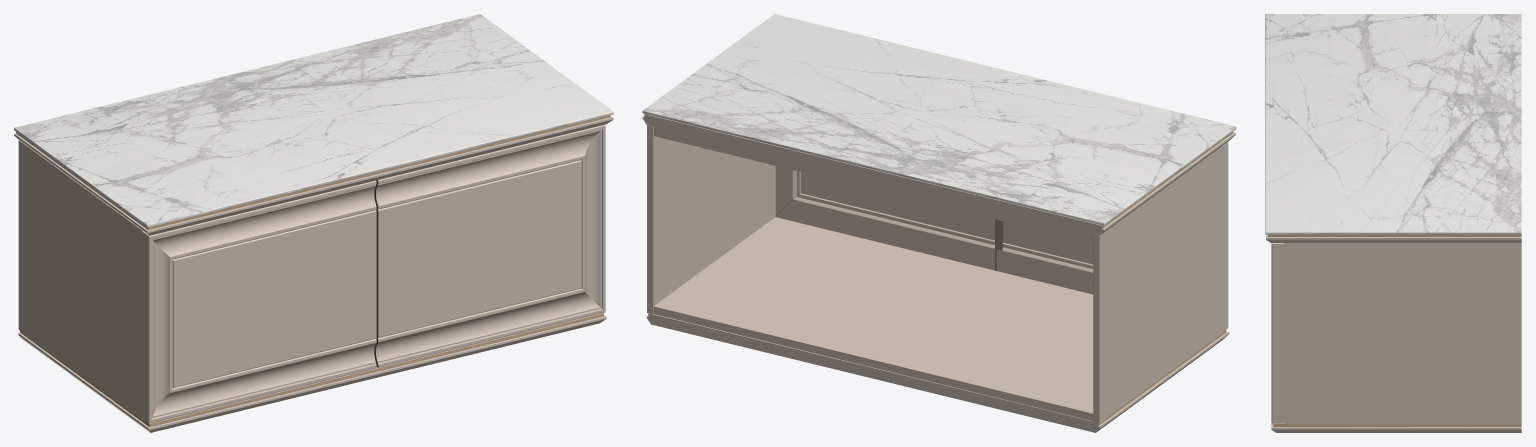
3 views of the same model, side by side, from view 1: azimuth 30°, elevation 25°; view 2: azimuth 150°, elevation 25°; view 3: azimuth 270°, elevation 25° (orthographic). The views are drawn at different scales.
Parts seen in each view (by area): view 1: BL02.001, BL01.011; view 2: BL02.001, BL01.011; view 3: BL02.001, BL01.011.
Boxes of the visible parts, bbox=[...] form: BL02.001: bbox=[14, 14, 613, 432]; BL01.011: bbox=[142, 124, 605, 423]; BL02.001: bbox=[642, 14, 1236, 432]; BL01.011: bbox=[775, 142, 1228, 332]; BL02.001: bbox=[1265, 14, 1521, 432]; BL01.011: bbox=[1271, 243, 1284, 423].
Bounding box in the file's own units: 1 × 0.438 × 0.496.
4 materials, 1 textured.
